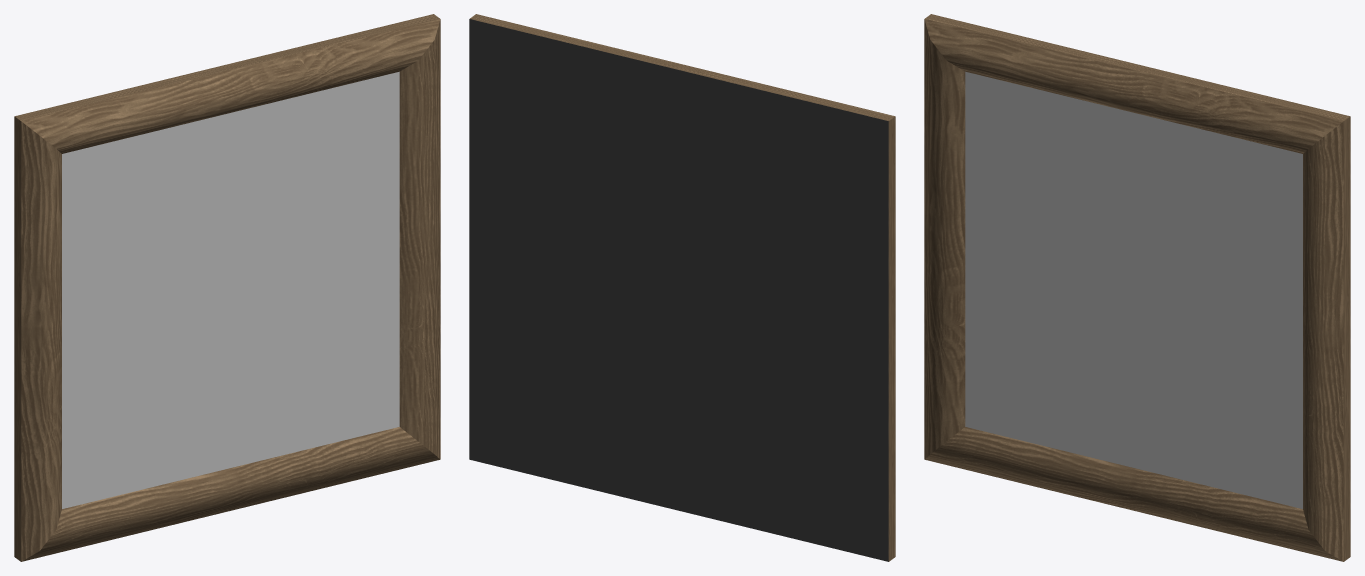
The model's file is cupboard_014.fbx.
3 views of the same model, side by side, from view 1: azimuth 30°, elevation 25°; view 2: azimuth 150°, elevation 25°; view 3: azimuth 330°, elevation 25° (orthographic).
Visible parts, largest first — view 1: cupboard_014; view 2: cupboard_014; view 3: cupboard_014.
Part boxes in pixels (x1=…): cupboard_014: x1=14, y1=14, x2=440, y2=561; cupboard_014: x1=469, y1=14, x2=895, y2=561; cupboard_014: x1=924, y1=14, x2=1350, y2=561.
Size of the model in its own units: 97.24 by 5.32 by 97.66.
